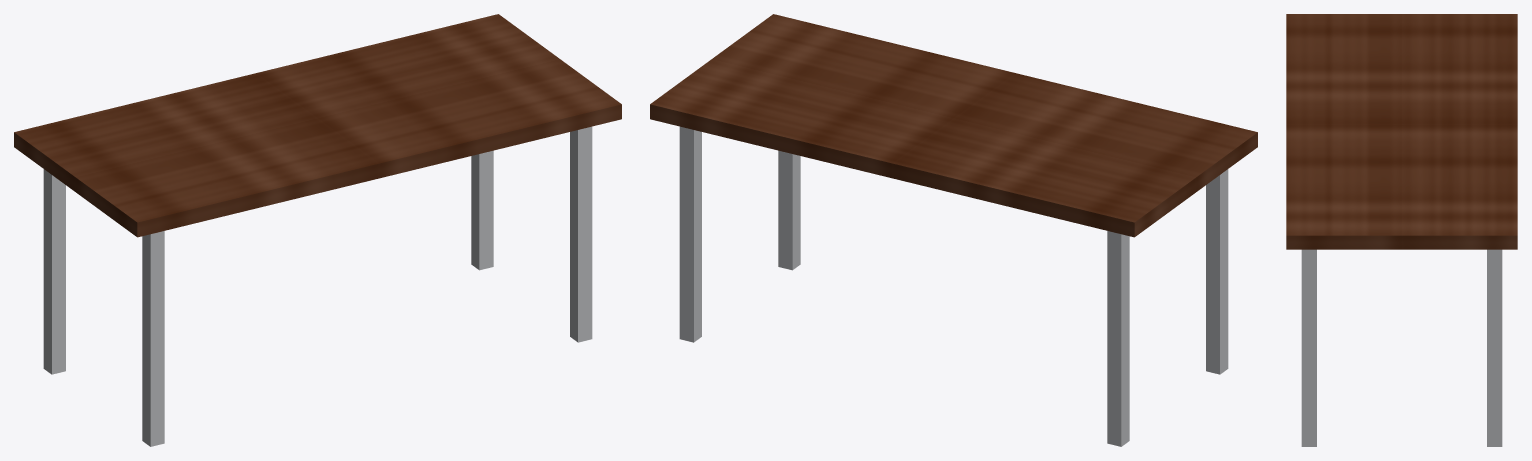
Rendered from table.glb.
3 renders of one model, left to right at view 1: azimuth 30°, elevation 25°; view 2: azimuth 150°, elevation 25°; view 3: azimuth 270°, elevation 25°, orthographic. The views are drawn at different scales.
Visible parts, largest first — view 1: Table; view 2: Table; view 3: Table.
Part boxes in pixels (bbox=[...]): Table: bbox=[14, 14, 621, 446]; Table: bbox=[650, 14, 1257, 446]; Table: bbox=[1286, 14, 1517, 446].
Size of the model in its own units: 1.7 by 0.79 by 0.75.
2 materials, 1 textured.
